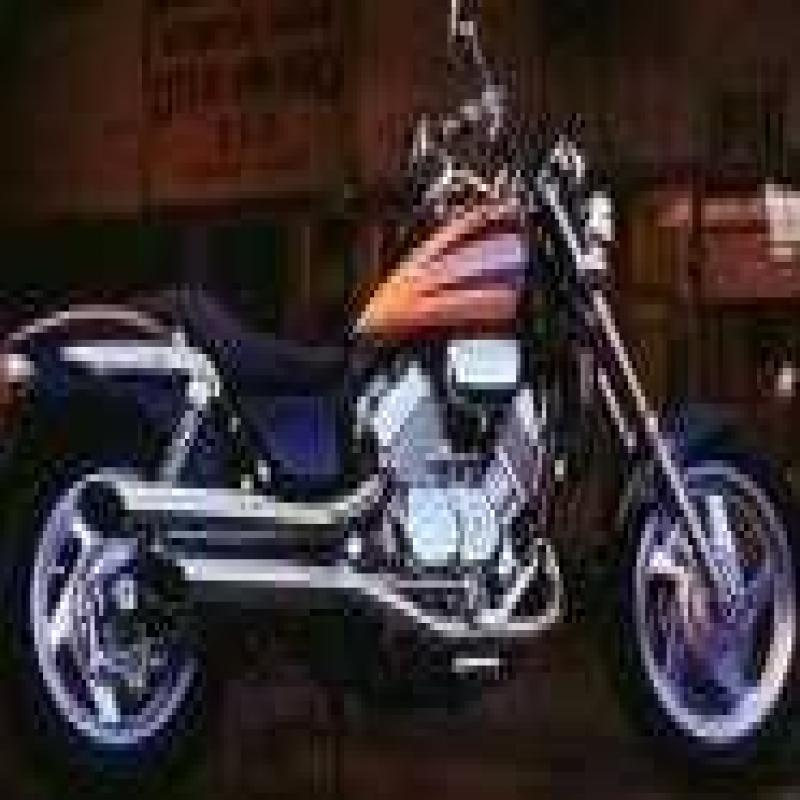bike: (13, 23, 800, 800)
